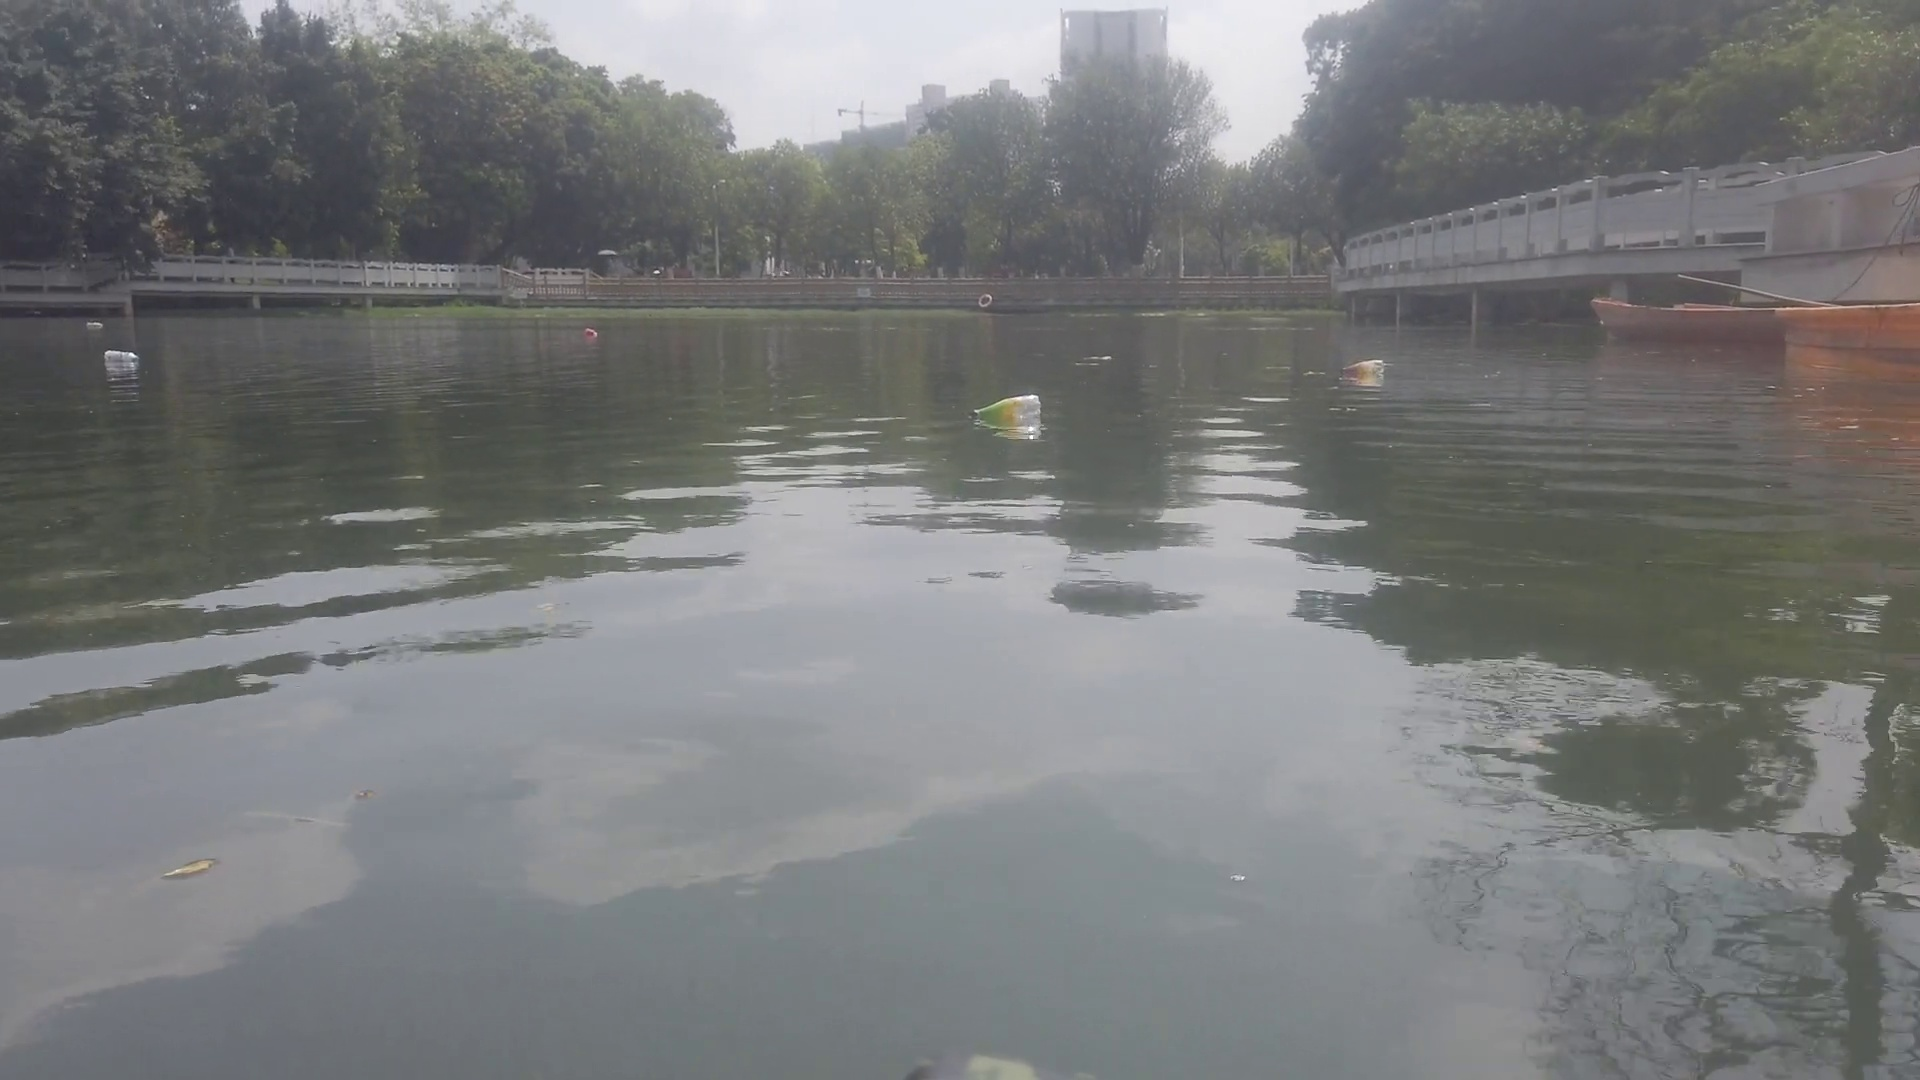bottle: (968, 389, 1048, 429), (103, 347, 146, 367), (1341, 356, 1387, 375), (83, 316, 100, 328), (582, 324, 599, 335)
